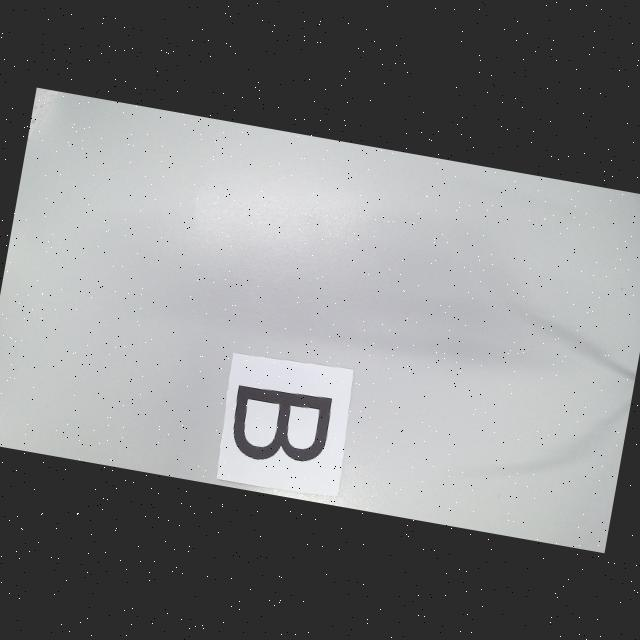FAKE: (226, 381, 334, 470)
